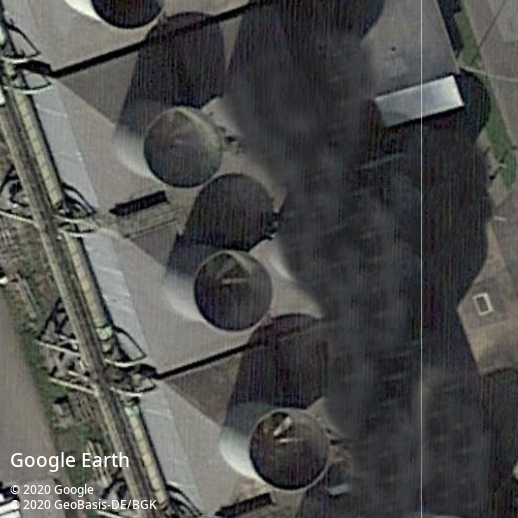Vent: (191, 249, 275, 335), (248, 408, 332, 493), (141, 106, 224, 190)
